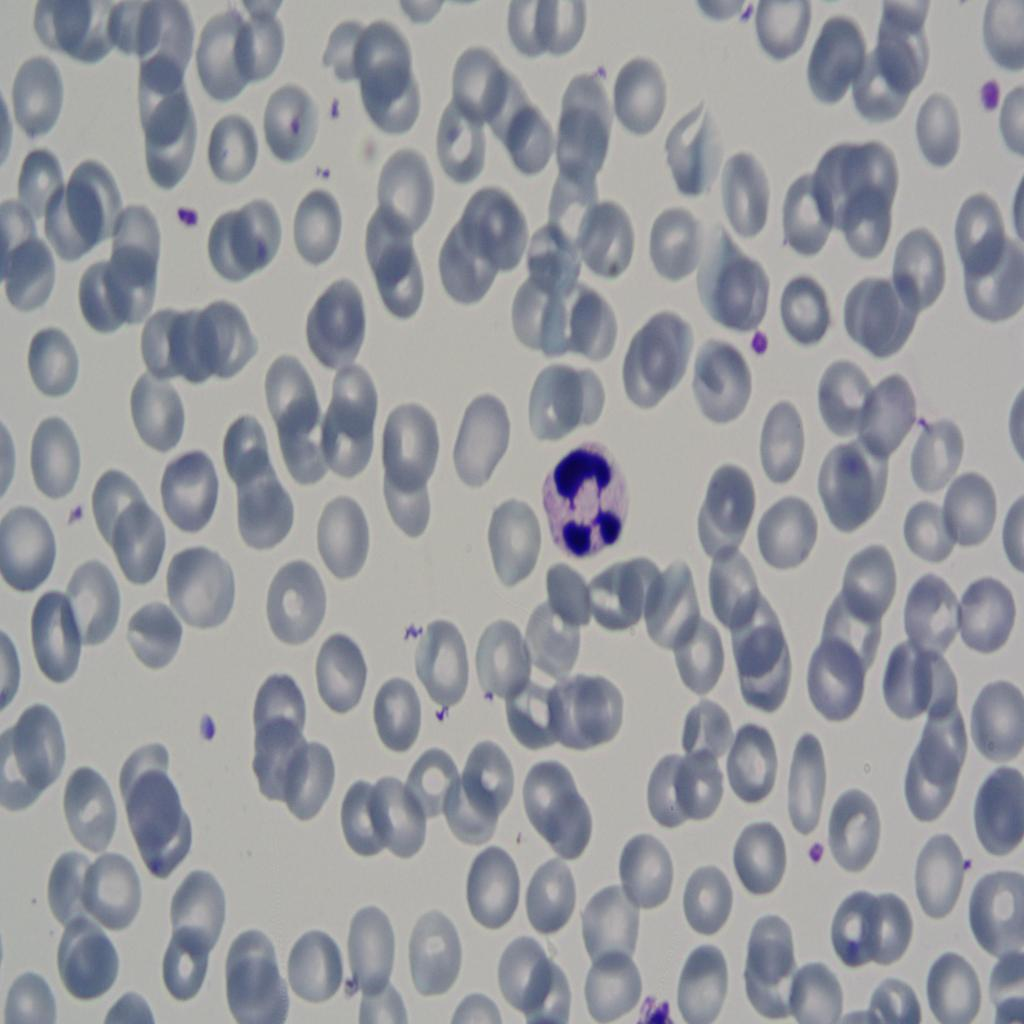Neutrofil: (533, 415, 635, 569)
Platelet: (793, 822, 840, 882), (967, 63, 1011, 112), (741, 316, 772, 366), (198, 704, 224, 760), (172, 194, 200, 240)
